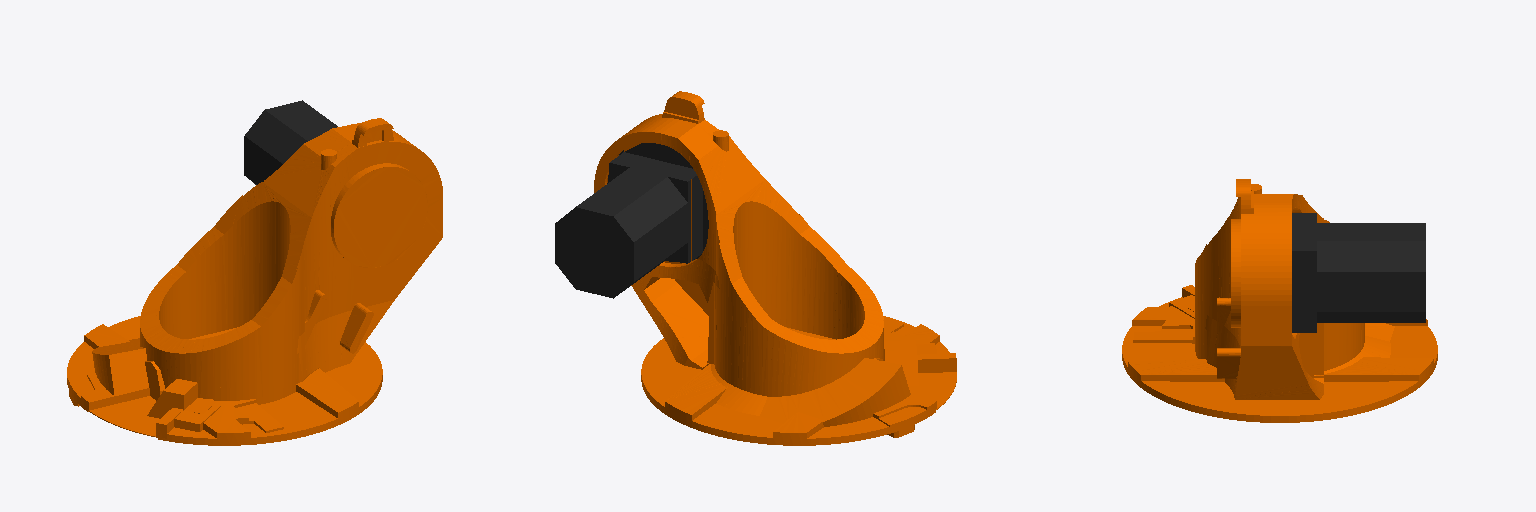
Rendered from Eslabon1.obj.
3 renders of one model, left to right at view 1: azimuth 30°, elevation 25°; view 2: azimuth 150°, elevation 25°; view 3: azimuth 270°, elevation 25°, orthographic.
Parts seen in each view (by area): view 1: default; view 2: default; view 3: default.
Boxes of the visible parts, x1,y1,x2,y2 form: default: [67, 100, 442, 445]; default: [555, 91, 956, 445]; default: [1122, 179, 1437, 422].
Size of the model in its own units: 0.663 by 0.4619 by 0.5401.